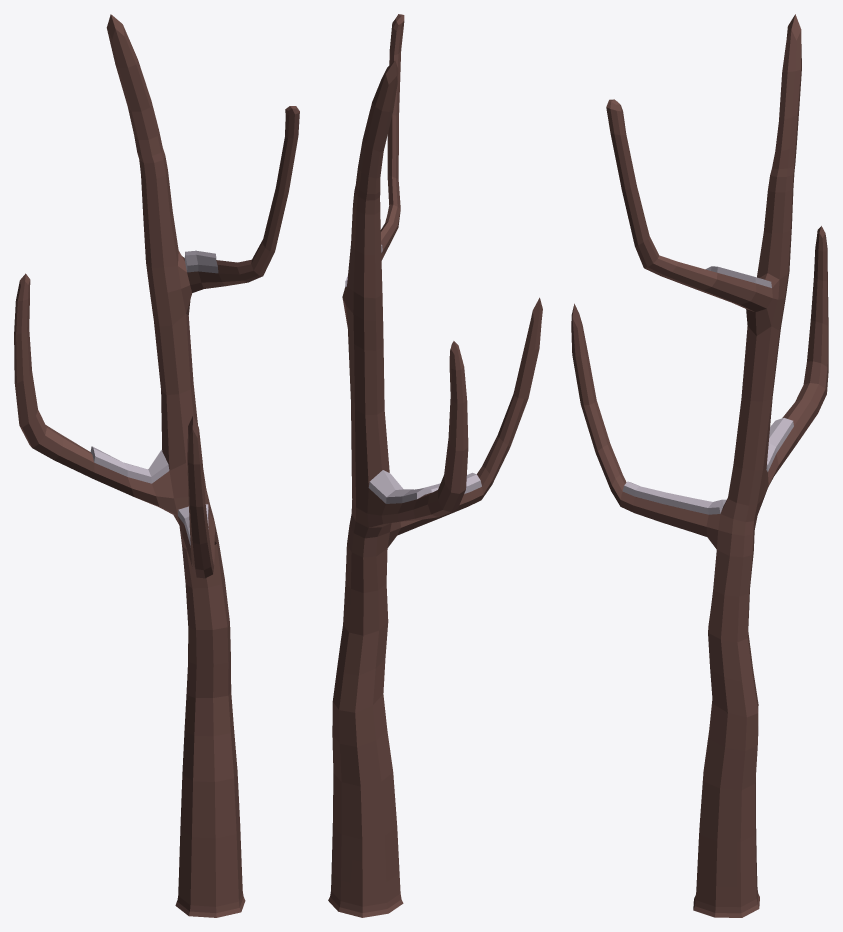
File: CommonTree_Dead_Snow_3.glb
The picture shows the model from 3 angles, left to right: view 1: azimuth 30°, elevation 25°; view 2: azimuth 150°, elevation 25°; view 3: azimuth 270°, elevation 25°; orthographic projection. The views are drawn at different scales.
Visible parts, largest first — view 1: CommonTree_Dead_Snow_3; view 2: CommonTree_Dead_Snow_3; view 3: CommonTree_Dead_Snow_3.
Boxes of the visible parts, x1=… form: CommonTree_Dead_Snow_3: x1=14, y1=14, x2=299, y2=917; CommonTree_Dead_Snow_3: x1=328, y1=14, x2=542, y2=917; CommonTree_Dead_Snow_3: x1=571, y1=14, x2=828, y2=917.
Size of the model in its own units: 0.6352 by 3 by 0.8124.
